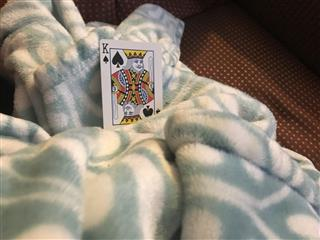KingOfSpades: (98, 38, 162, 129)
